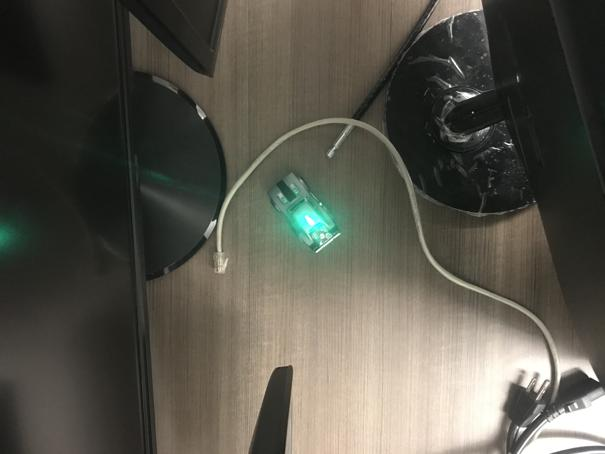Charger: (267, 169, 346, 255)
